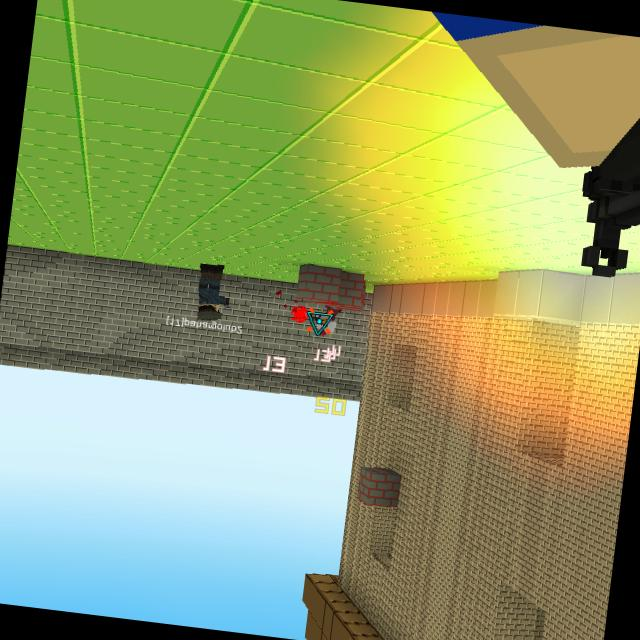enemy: (306, 303, 343, 338)
